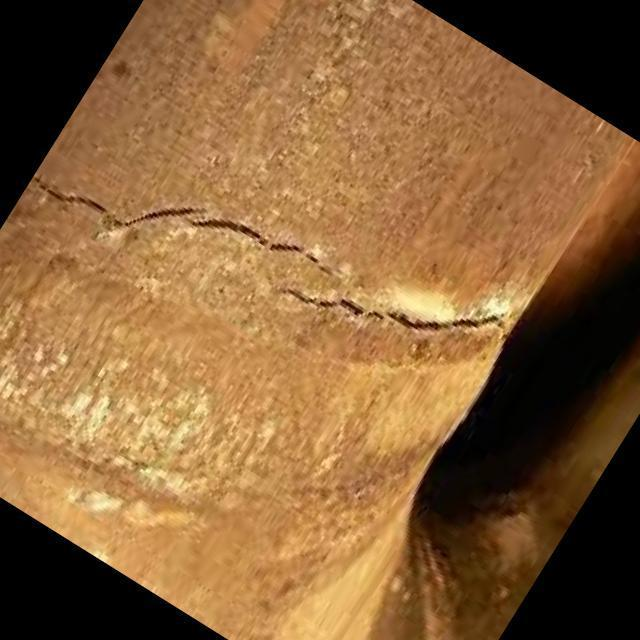defect: (25, 165, 345, 279), (262, 279, 513, 346)
